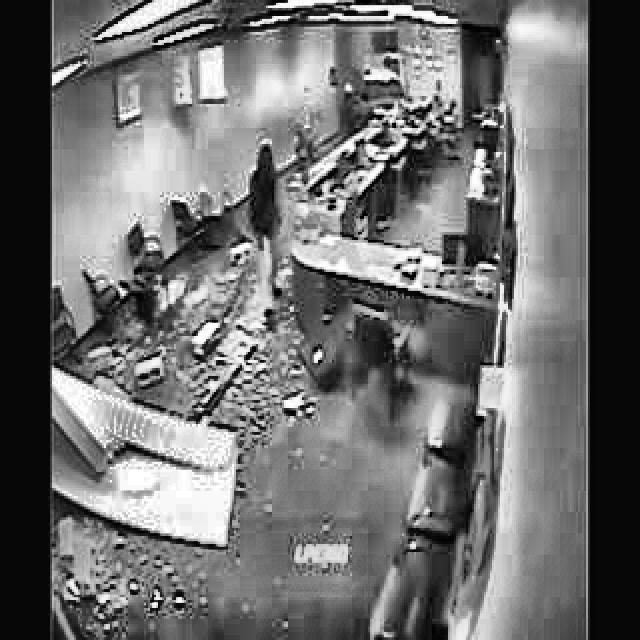burglary: (217, 127, 308, 342), (323, 45, 408, 152)
